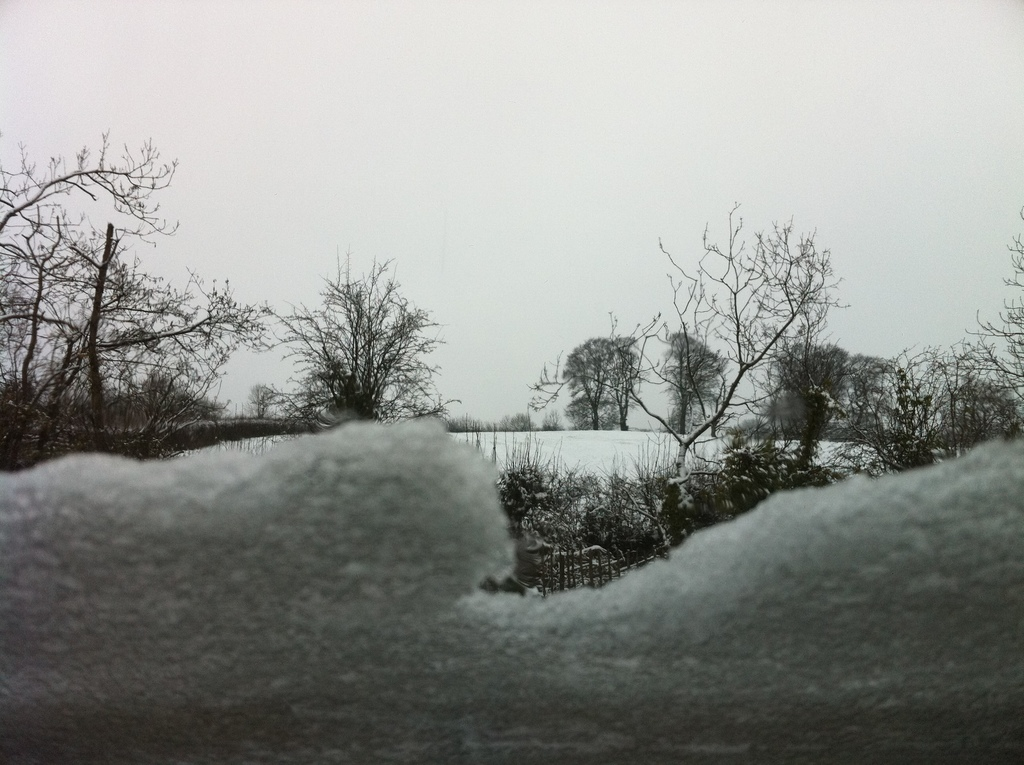Tree: (0, 130, 1024, 601), (756, 340, 898, 442)
